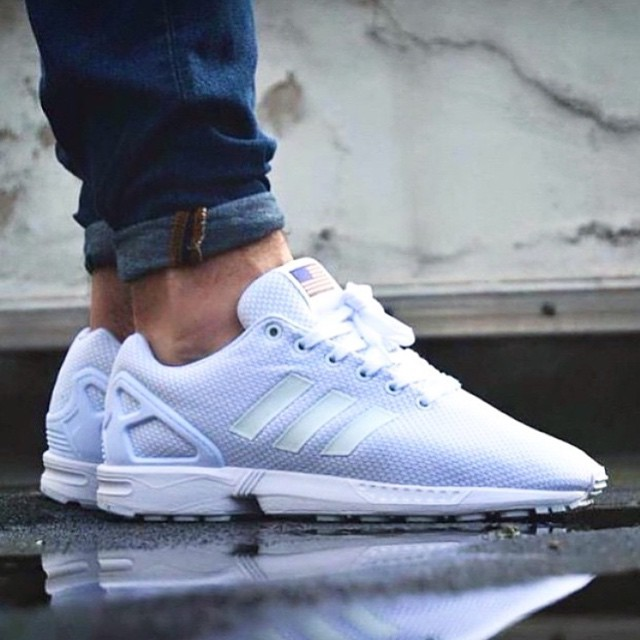sneaker: (83, 222, 618, 538), (22, 225, 161, 527)
